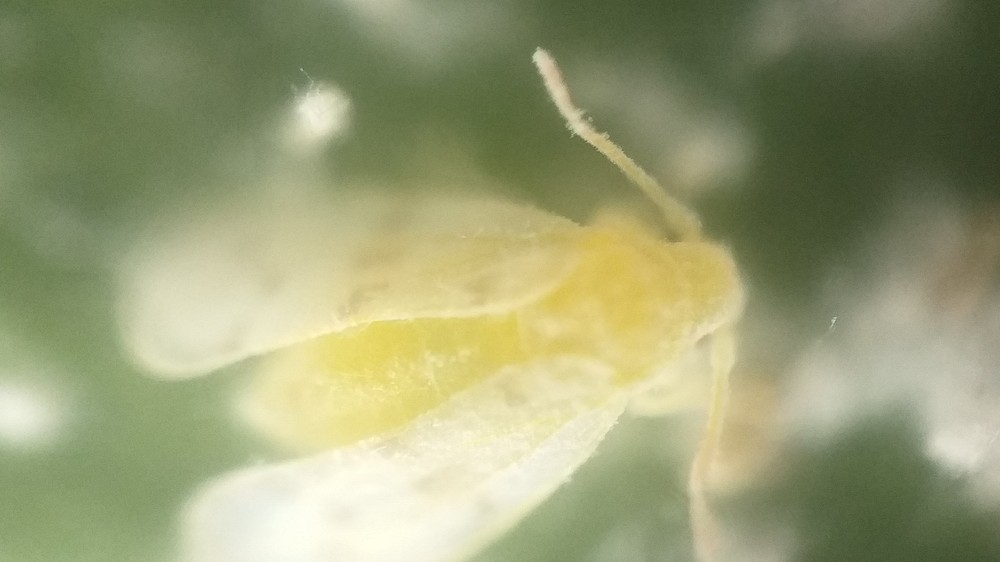Mosca Blanca: (109, 44, 766, 562)
